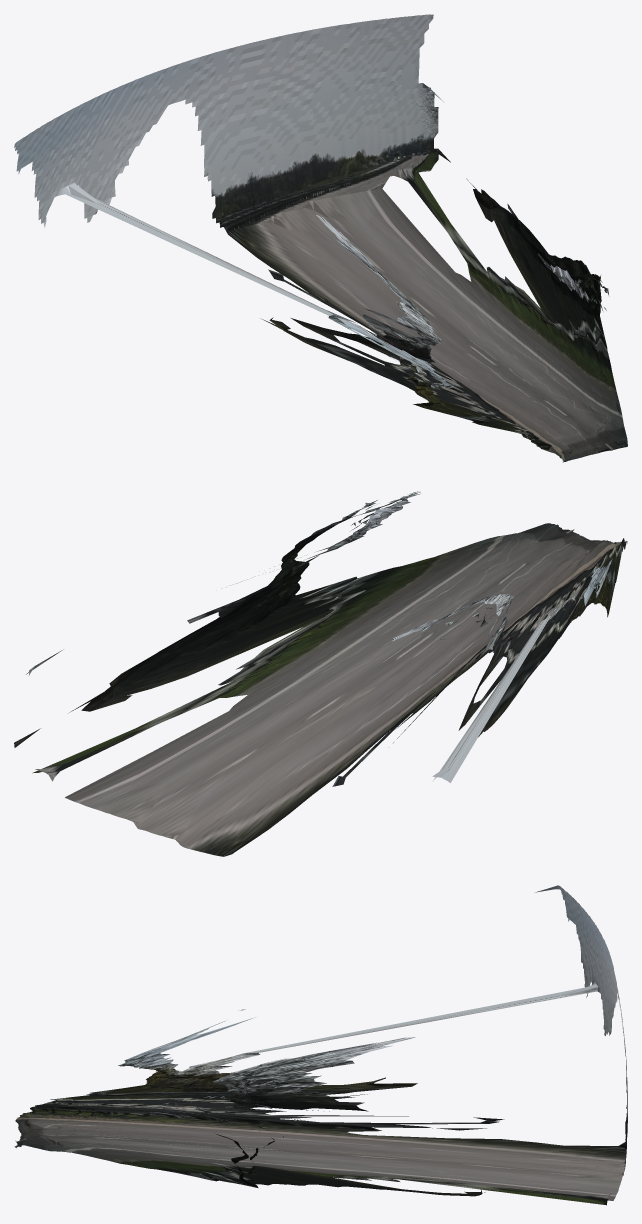
3 views of the same model, one above another, from view 1: azimuth 30°, elevation 25°; view 2: azimuth 150°, elevation 25°; view 3: azimuth 270°, elevation 25° (orthographic). The views are drawn at different scales.
Parts seen in each view (by area): view 1: defaultobject; view 2: defaultobject; view 3: defaultobject.
Part boxes in pixels (<box>): defaultobject: <box>14,14,627,462</box>; defaultobject: <box>14,491,627,856</box>; defaultobject: <box>14,885,627,1205</box>.
Size of the model in its own units: 33.23 by 13.38 by 44.61.
1 material, 1 textured.
